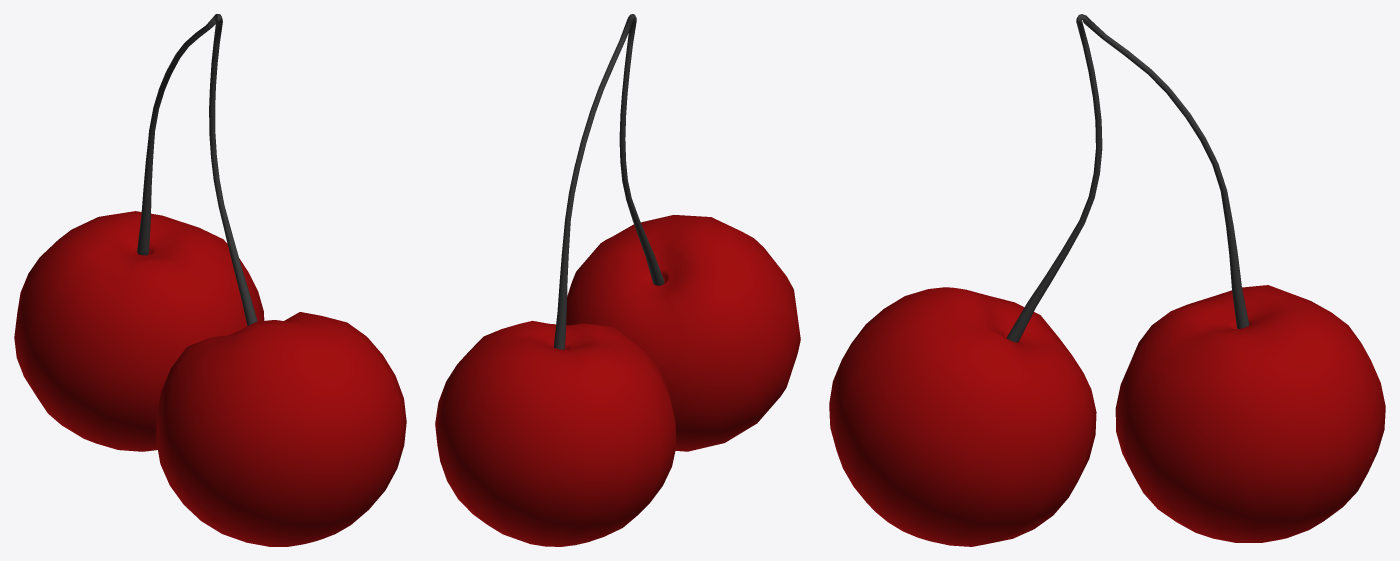
File: Cherry_Double.fbx
The picture shows the model from 3 angles, left to right: view 1: azimuth 30°, elevation 25°; view 2: azimuth 150°, elevation 25°; view 3: azimuth 270°, elevation 25°; orthographic projection. The views are drawn at different scales.
Visible parts, largest first — view 1: Cherry_Double; view 2: Cherry_Double; view 3: Cherry_Double.
Part boxes in pixels (x1,y1,x2,y2): Cherry_Double: (14, 14, 406, 546); Cherry_Double: (435, 14, 800, 546); Cherry_Double: (829, 14, 1385, 546).
Size of the model in its own units: 0.5731 by 1.14 by 1.17.
